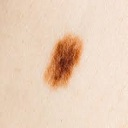Melanoma: (41, 34, 83, 89)
